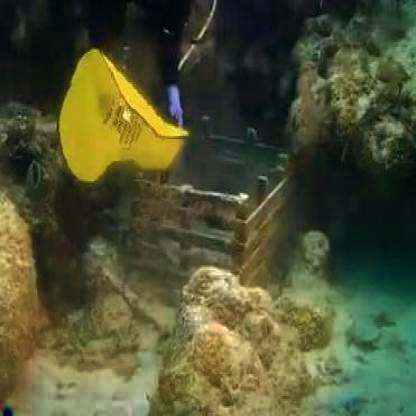misc: (86, 153, 268, 317)
